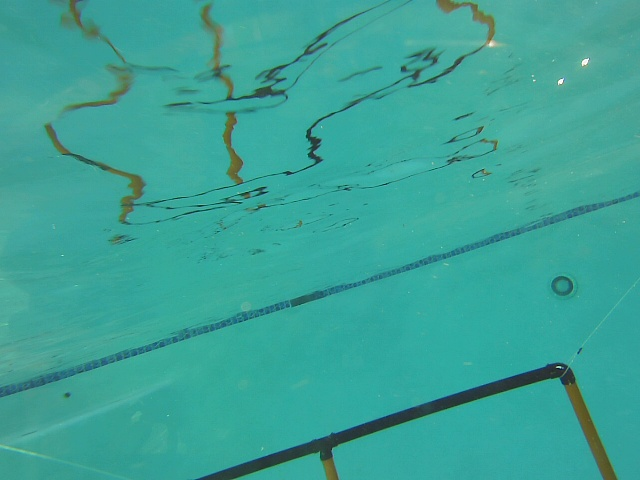Gate: (560, 378, 622, 480), (315, 447, 345, 480)
